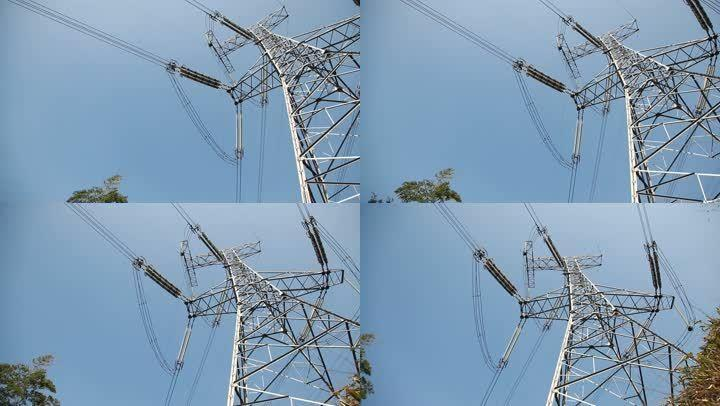power_tower: (459, 240, 701, 406), (134, 231, 360, 406), (515, 12, 720, 204), (159, 8, 360, 203)
